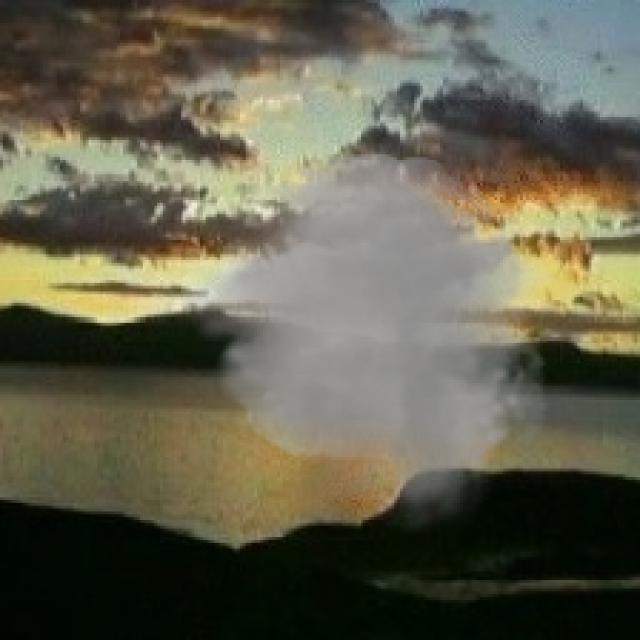Smoke: (171, 142, 563, 534)
